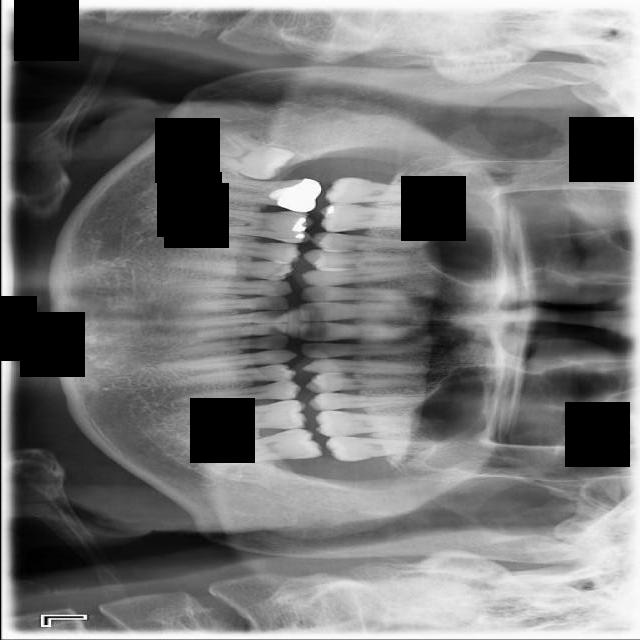52: (271, 170, 325, 218), (266, 207, 313, 246), (318, 203, 361, 233)
73: (49, 612, 77, 626)
BioHorizons Implant: (323, 434, 432, 468)
Blue Sky Bio Implant: (210, 426, 323, 469)
Caries: (322, 172, 431, 207)
Implant: (206, 178, 322, 213)
Keystone Dental Implant: (194, 121, 298, 191)
